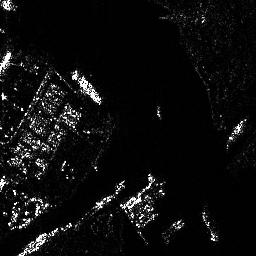ship: (71, 67, 103, 106), (227, 116, 248, 150), (201, 210, 219, 241), (22, 231, 47, 250)
